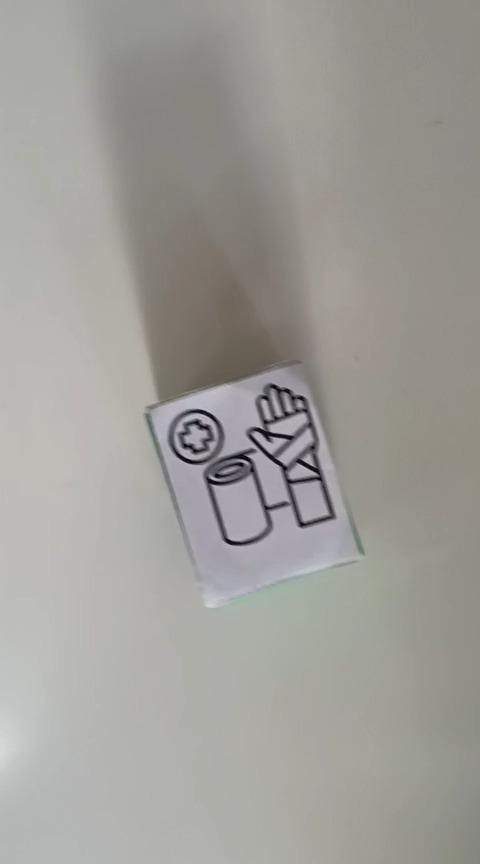Bandages: (143, 357, 365, 608)
